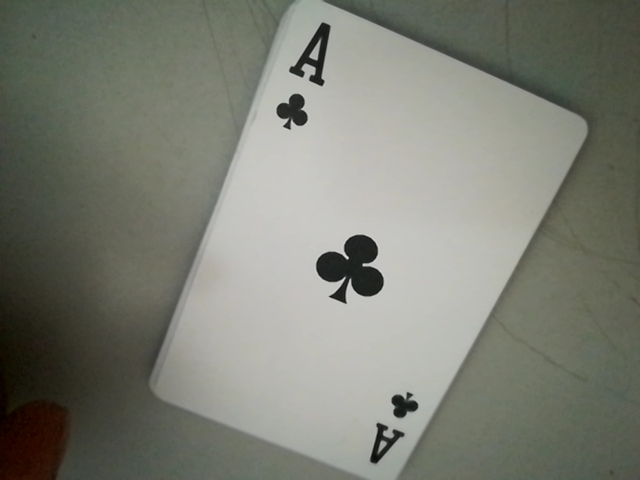mh a: (261, 13, 335, 139), (366, 383, 428, 479)
